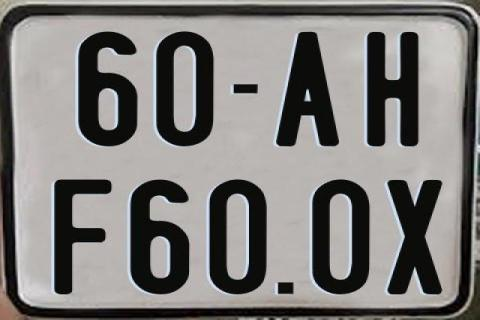0: (154, 30, 218, 150), (128, 177, 193, 295), (207, 177, 270, 295), (76, 29, 140, 145), (311, 177, 370, 296)
A: (273, 31, 342, 147)
F: (52, 177, 111, 293)
H: (366, 31, 418, 148)
X: (386, 179, 442, 299)
